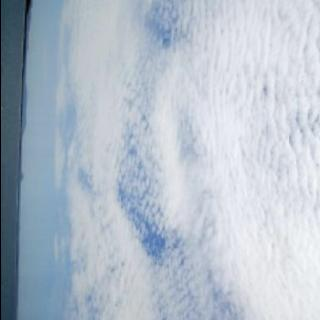Cirrocumulus: (42, 0, 320, 320)
